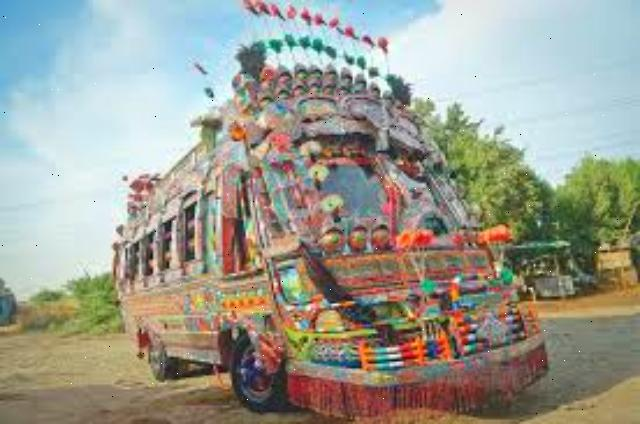Bus: (62, 62, 570, 415)
